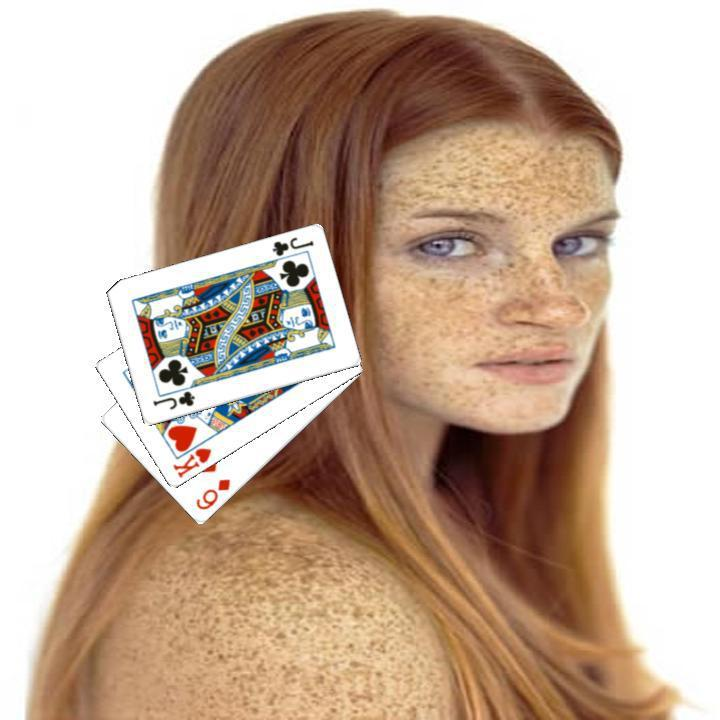6: (191, 475, 232, 512)
J: (267, 233, 315, 259), (148, 387, 196, 412)
K: (168, 444, 213, 480)
